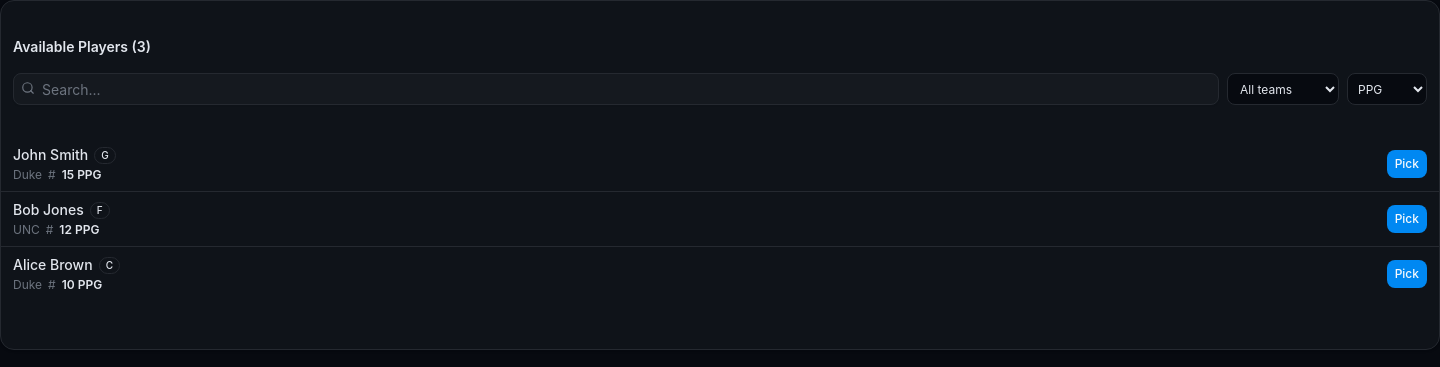
Test: PlayerList › filters players by team via the dropdown
Check: the text "John Smith" is shown, box [13,145,88,165]
Select "UNC" in the 1st dropdown at (1283, 89), box [1227,73,1339,105]
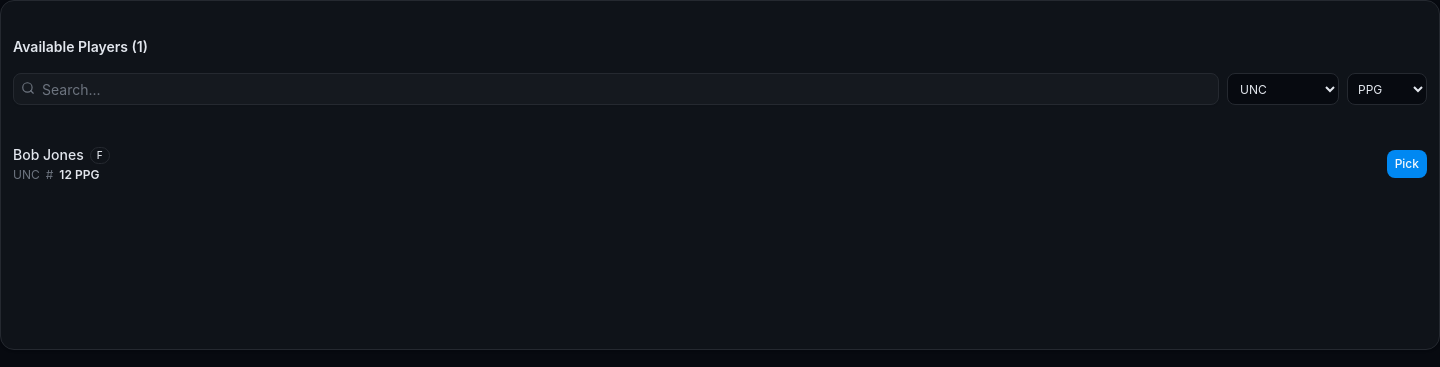
Check: the text "Bob Jones" is shown, box [13,145,84,165]
Check: the text "John Smith" is gone
Check: the text "Alice Brown" is gone
